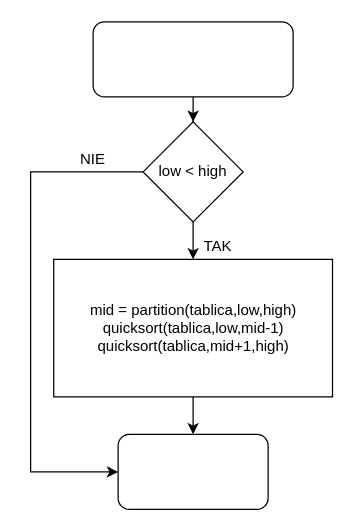
Image size: 355x531. Some labels were removed from this diagram. The box of each missing label's shape, as (x1, y1, x2, y2) in pixels:
KONIEC: (117, 433, 268, 509)
quicksort(tablica, low, high): (92, 21, 293, 97)
